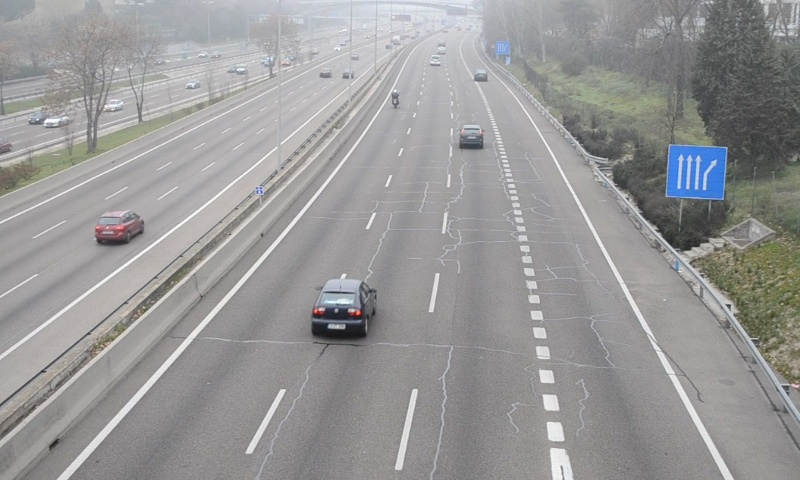car: (313, 278, 378, 338), (458, 125, 484, 148), (473, 69, 488, 81)
motorcycle: (390, 89, 399, 111)
